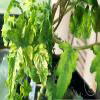Tomato leaf yellow virus: (54, 39, 80, 98), (7, 43, 24, 95), (69, 3, 86, 42), (34, 44, 49, 88), (22, 46, 35, 77), (80, 6, 91, 42), (25, 12, 35, 48), (13, 16, 26, 43), (20, 81, 33, 98)
